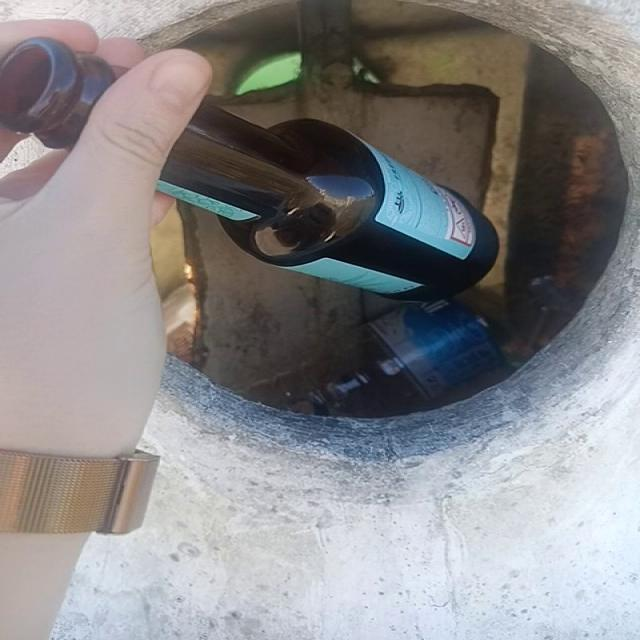Glass: (157, 102, 500, 300), (1, 37, 115, 148)
